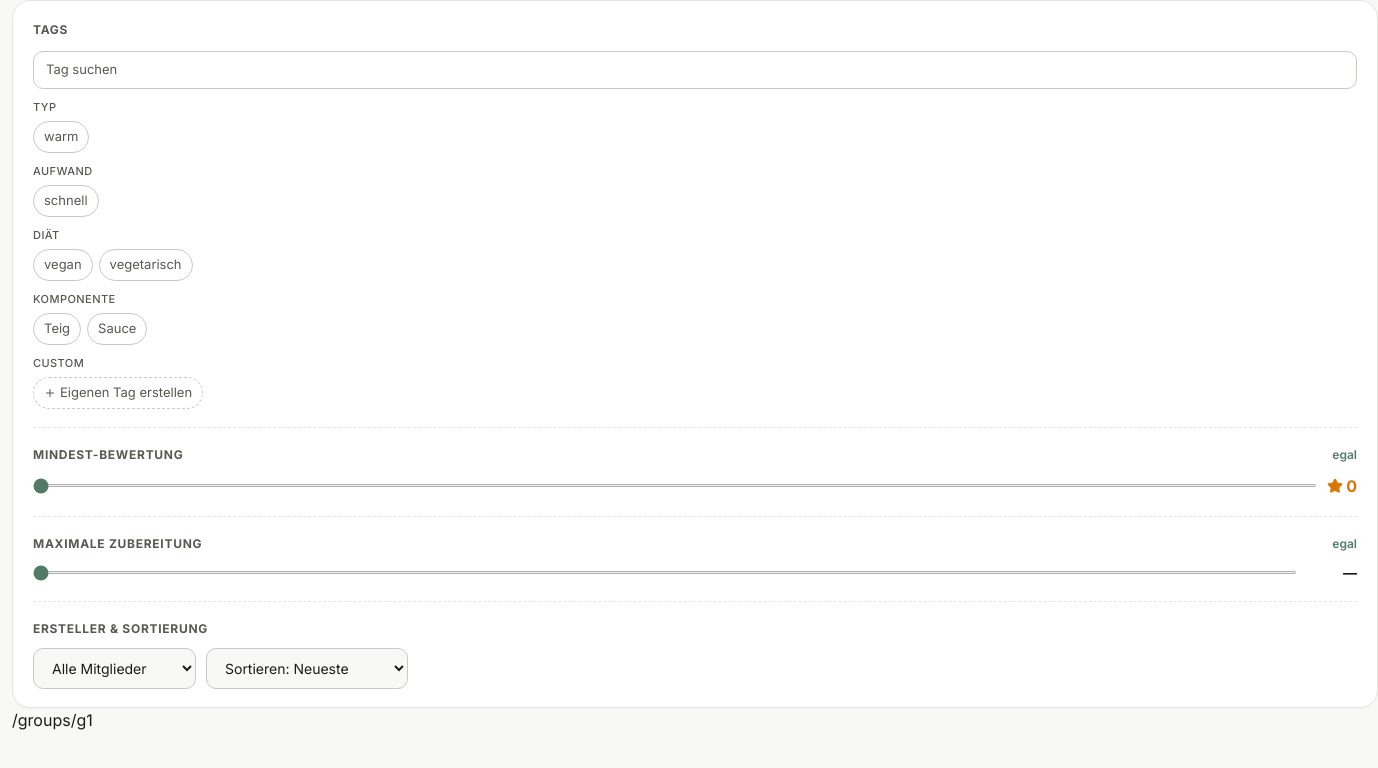
Test: RecipeFilterPanel › clicking a tag chip toggles the tag in the URL
This screenshot has width=1378, height=768.
Click the button "schnell".
click(66, 201)  # box [33, 185, 98, 216]
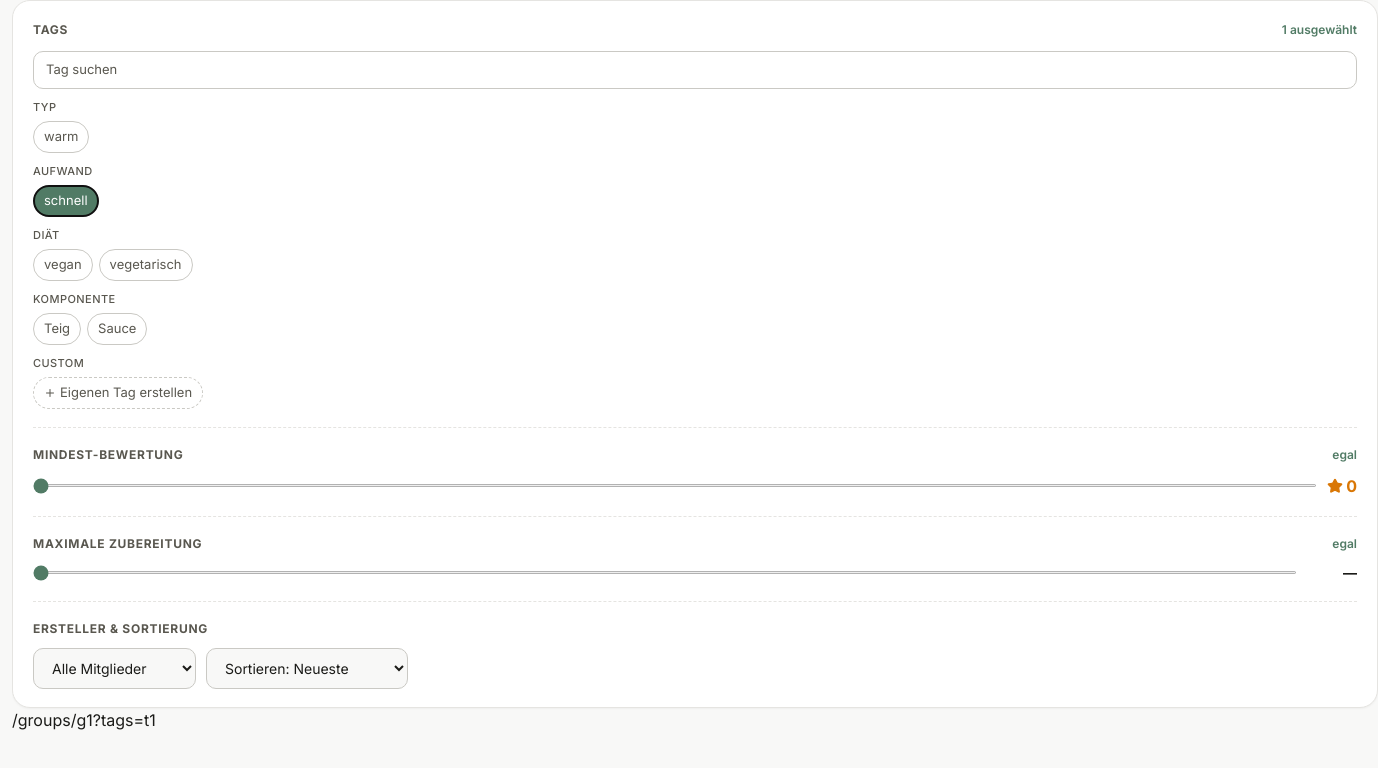
Result: the text with test id "location-probe" shows "tags=t1" at [93, 710, 156, 730]
Click the button "schnell".
click(66, 201)  # box [33, 185, 98, 216]
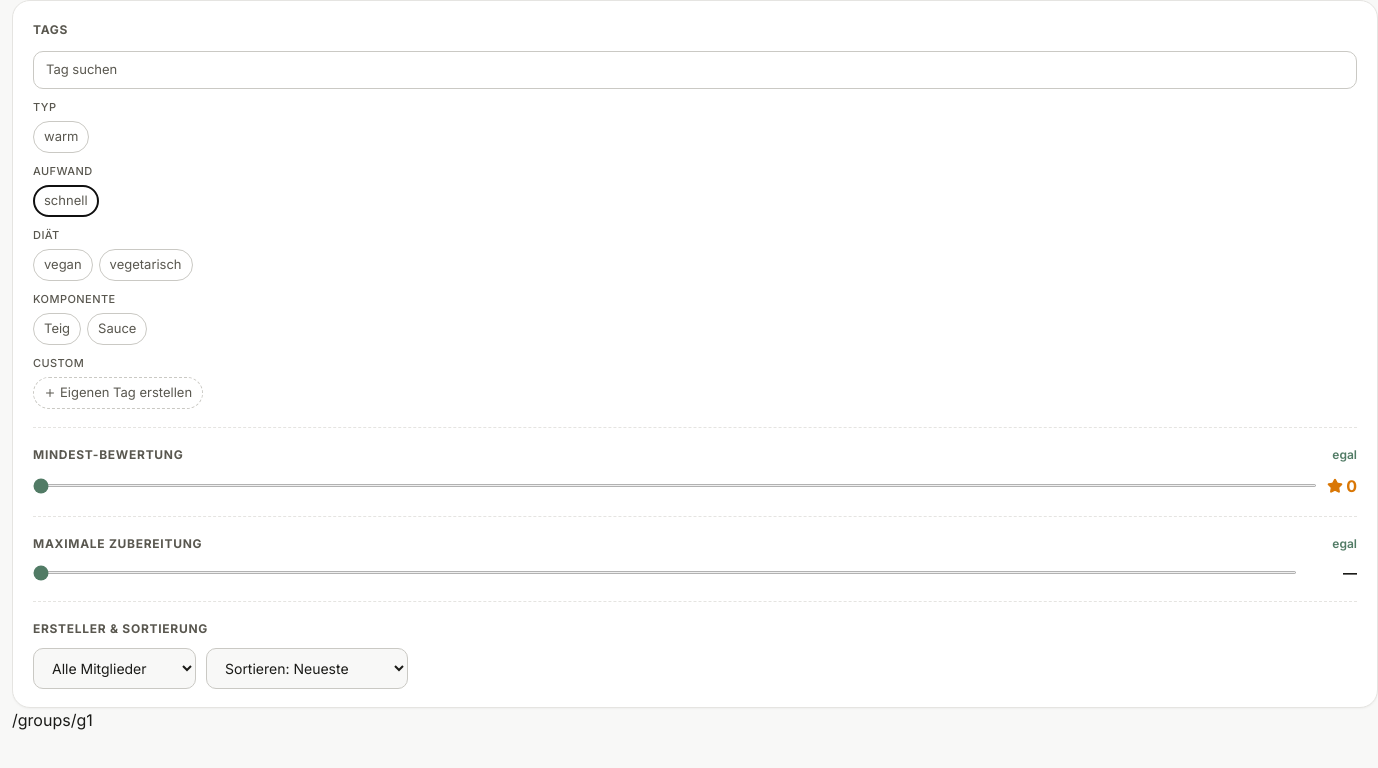
Result: the text with test id "location-probe" no longer shows "tags=t1"
